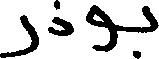X: (0, 10, 38, 58), (87, 0, 116, 56), (50, 0, 72, 40), (143, 1, 158, 37)
